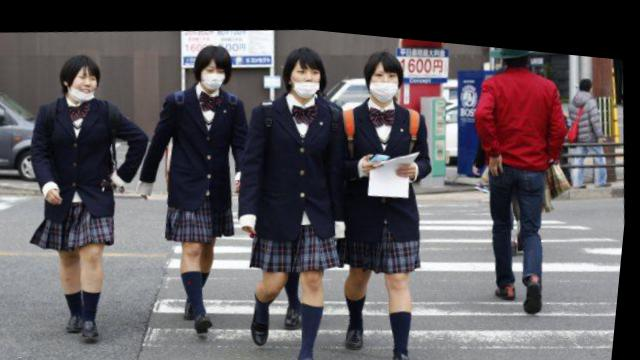OK: (199, 56, 230, 91)
WRONG: (364, 59, 403, 98), (291, 55, 329, 93), (70, 67, 102, 104)
